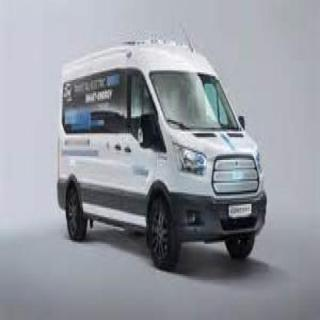Normal_vehicle: (50, 17, 278, 286)
